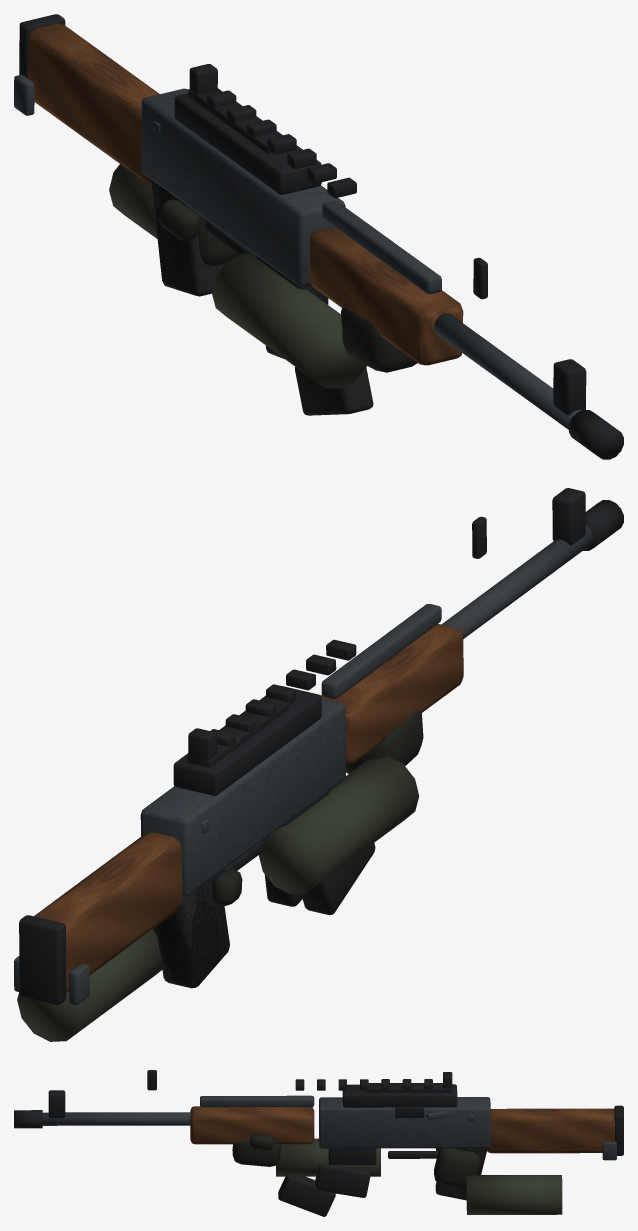
Rendered from weapon_ak74.glb.
3 renders of one model, top to bottom at view 1: azimuth 30°, elevation 25°; view 2: azimuth 150°, elevation 25°; view 3: azimuth 270°, elevation 25°, orthographic. The views are drawn at different scales.
Parts seen in each view (by area): view 1: WeaponMesh; view 2: WeaponMesh; view 3: WeaponMesh.
Boxes of the visible parts, x1,y1,x2,y2 form: WeaponMesh: (14,14,623,459); WeaponMesh: (14,488,623,1041); WeaponMesh: (14,1070,623,1216).
Size of the model in its own units: 0.1707 by 0.3343 by 1.28.
Materials: 6 (3 with a texture image).
